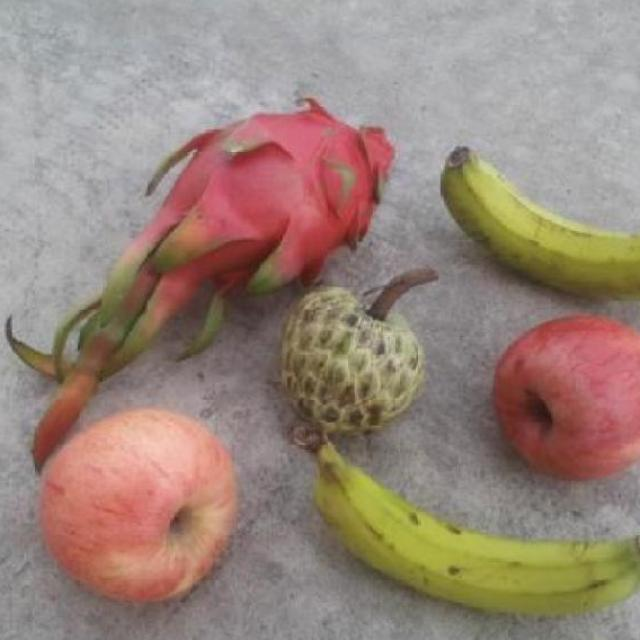apple: (32, 412, 236, 598), (487, 312, 640, 480)
banana: (314, 462, 640, 614), (440, 138, 640, 306)
dragon fruit: (180, 102, 398, 288)
sugar apple: (272, 282, 424, 439)
